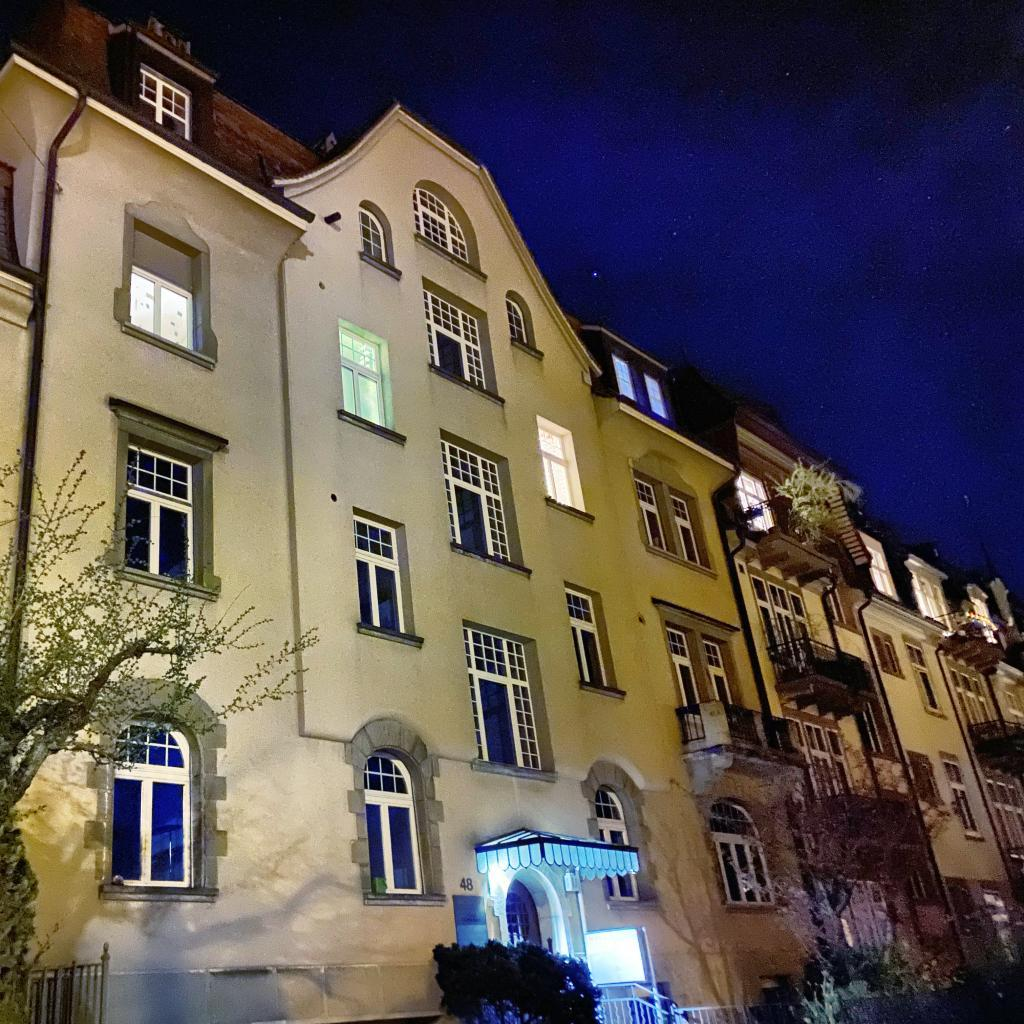balcony-fence: (674, 699, 808, 767), (740, 496, 844, 568), (767, 635, 877, 703), (940, 609, 1007, 657), (965, 718, 1024, 766)
facade: (0, 0, 1024, 1024)
non-building-infrastructure: (474, 826, 641, 882)
vegetation: (0, 444, 323, 1024), (686, 721, 1024, 1024), (429, 938, 605, 1024), (762, 453, 864, 549)
window: (113, 719, 191, 887), (462, 626, 542, 770), (125, 443, 193, 583), (441, 439, 511, 562), (364, 750, 423, 893), (131, 229, 195, 350), (750, 572, 817, 673), (710, 800, 774, 904), (423, 288, 486, 389), (354, 514, 405, 633), (784, 715, 854, 797), (340, 326, 385, 427), (565, 587, 608, 686), (666, 627, 703, 739), (415, 188, 469, 264), (838, 878, 894, 946), (140, 68, 190, 141), (538, 423, 574, 507), (985, 777, 1024, 852), (634, 477, 668, 552), (942, 759, 977, 831), (948, 667, 993, 723), (734, 471, 774, 532), (905, 642, 940, 711), (669, 493, 701, 565), (984, 894, 1018, 959), (702, 639, 733, 705), (596, 786, 629, 845), (913, 575, 948, 626), (0, 161, 16, 263), (359, 206, 387, 263), (854, 701, 884, 754), (866, 545, 895, 598), (948, 883, 979, 932), (506, 892, 531, 945), (909, 756, 936, 800), (873, 633, 900, 676), (645, 374, 667, 418), (506, 297, 527, 343), (613, 356, 634, 399), (606, 874, 639, 901), (971, 597, 993, 634), (827, 586, 847, 623), (906, 867, 927, 897), (1006, 691, 1023, 722)
